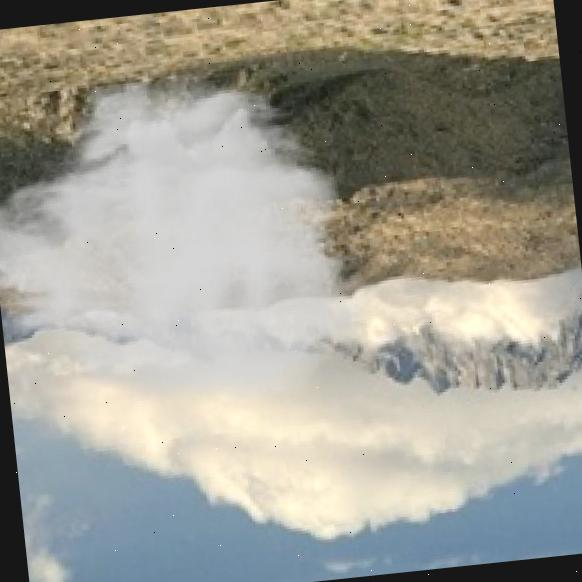smoke: (64, 137, 313, 511)
